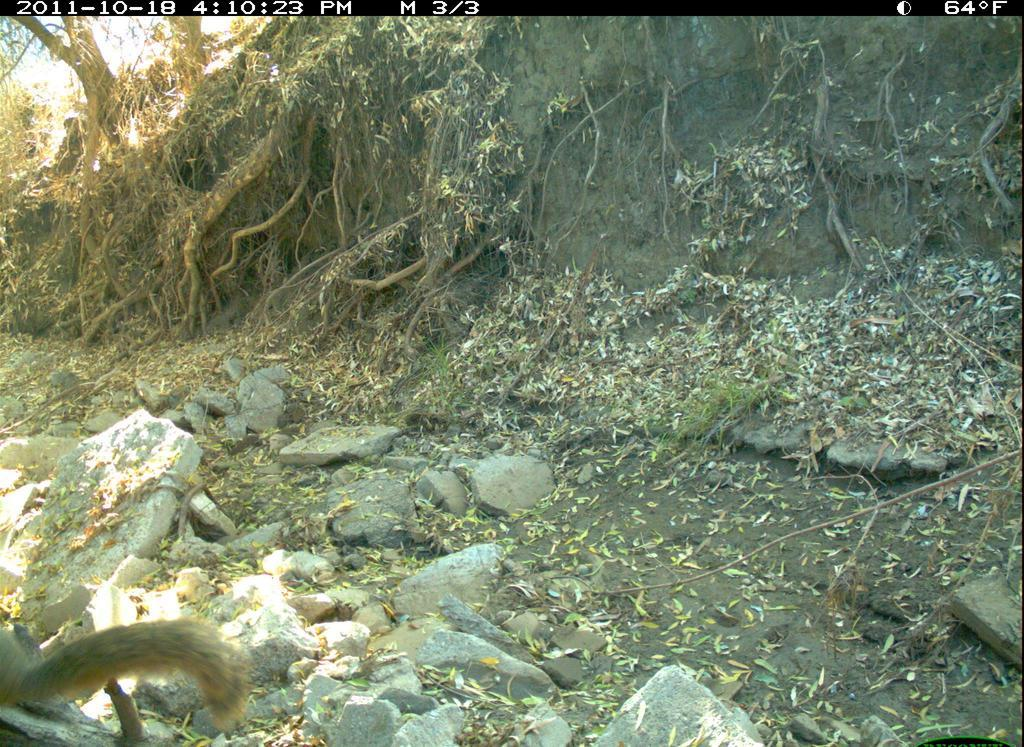squirrel: (6, 575, 268, 745)
